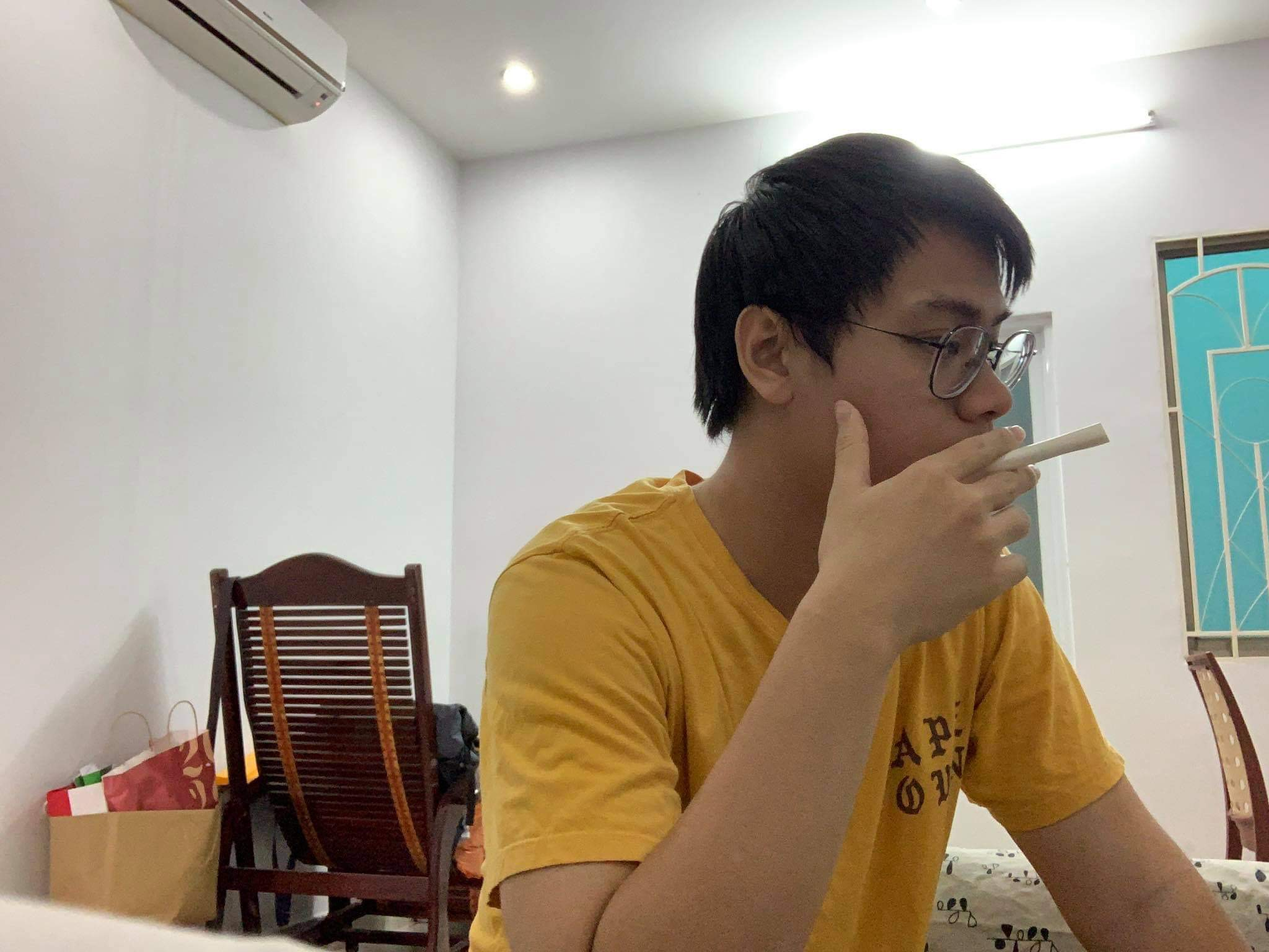cigarette: (1002, 412, 1118, 480)
person: (480, 141, 1208, 949)
